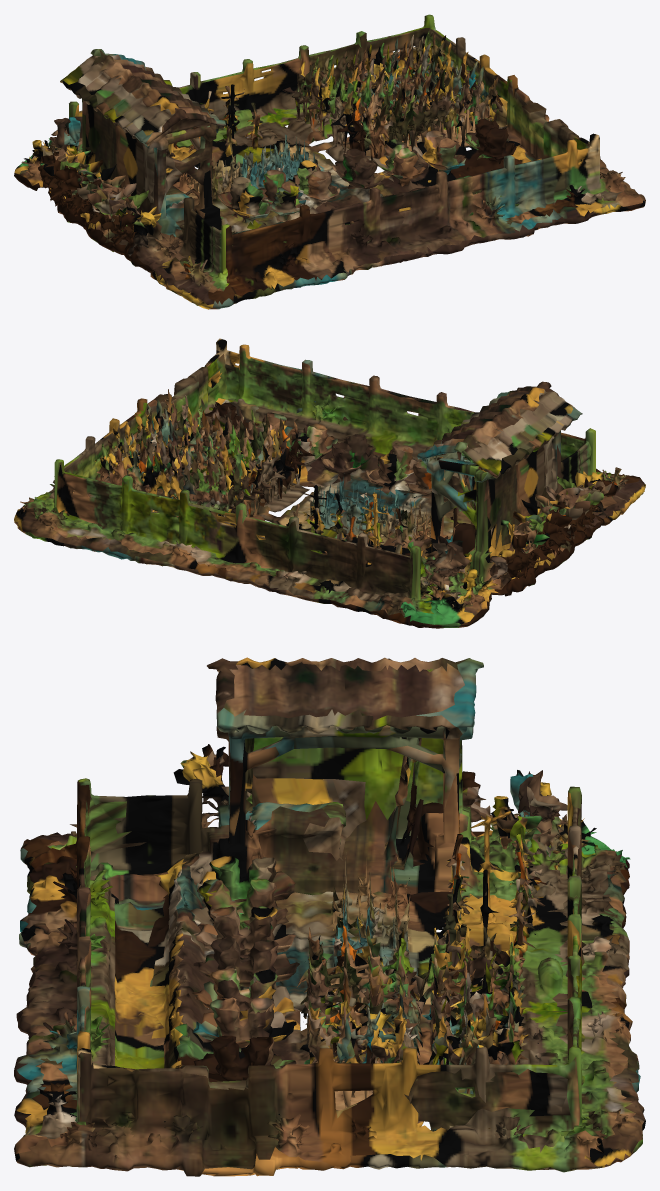
Rendered from SM_HuertoCampo.fbx.
3 views of the same model, one above another, from view 1: azimuth 30°, elevation 25°; view 2: azimuth 150°, elevation 25°; view 3: azimuth 270°, elevation 25° (orthographic). The views are drawn at different scales.
Parts seen in each view (by area): view 1: SM_HuertoCampo; view 2: SM_HuertoCampo; view 3: SM_HuertoCampo.
Boxes of the visible parts, box(x1,y1,x2,y2) form: SM_HuertoCampo: box(14, 14, 645, 309); SM_HuertoCampo: box(14, 338, 645, 628); SM_HuertoCampo: box(14, 657, 645, 1176).
Bounding box in the file's own units: 99.95 × 30.53 × 75.79.
1 material, 1 textured.
